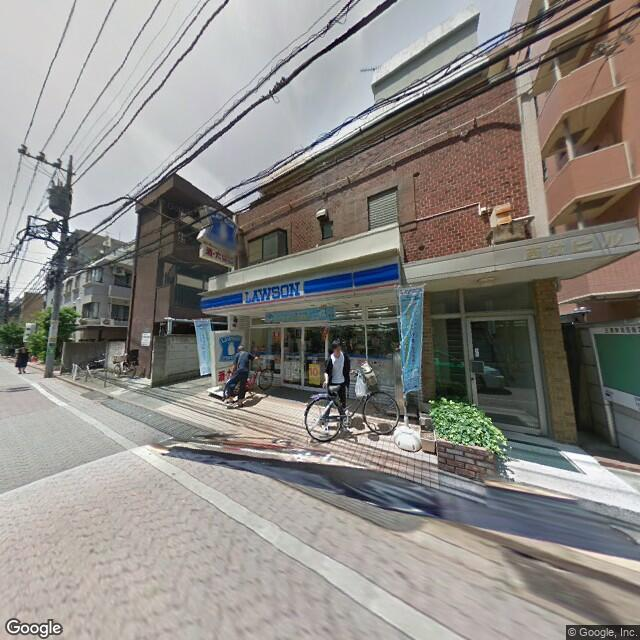lawson: (197, 255, 402, 316), (201, 197, 240, 255), (215, 330, 243, 360)
